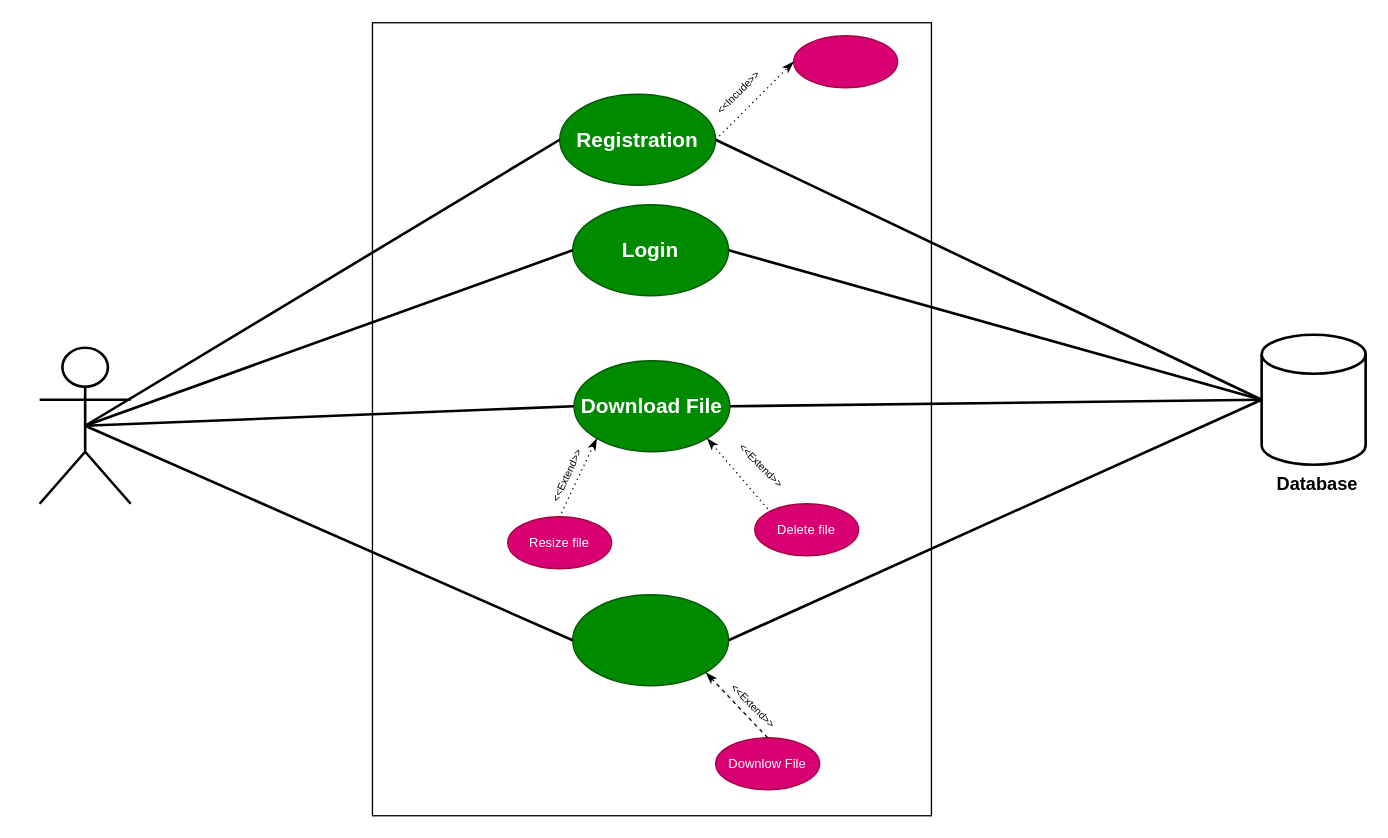
The diagram is 1388 pixels wide and 838 high, and some of its shapes have lost their labels. The centre of each missing label's shape, as x and y in pixels:
Administrator: point 84,425
Email Verification: point 845,61
Upload File: point 650,639
